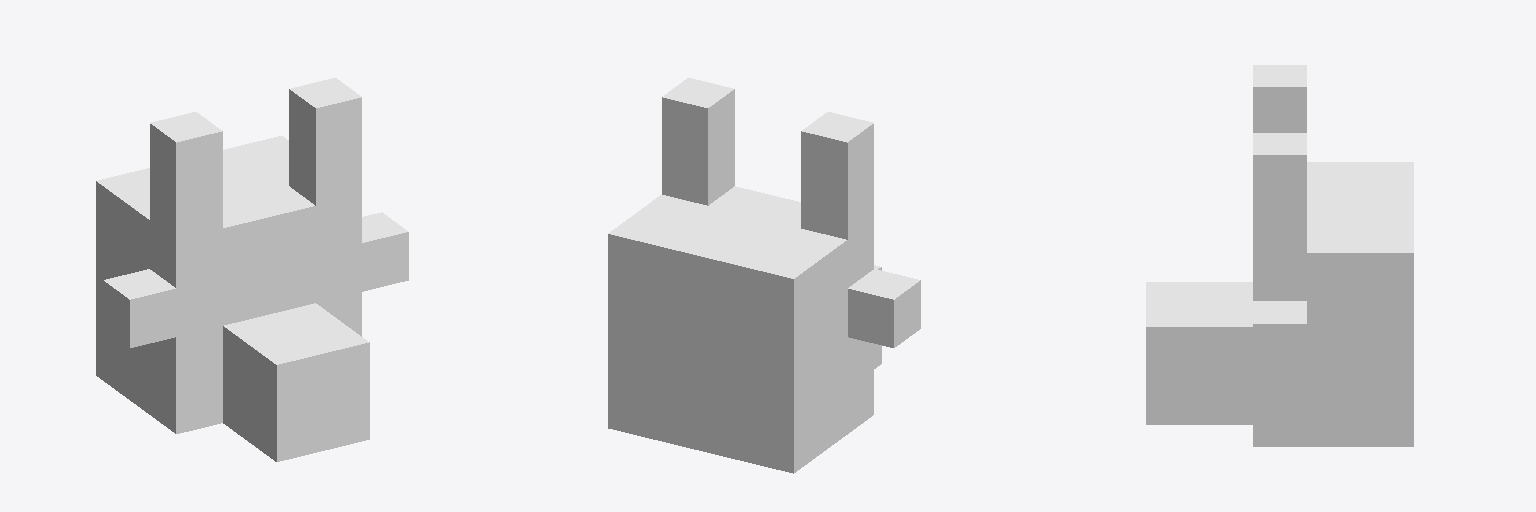
File: Serena-0.obj
3 views of the same model, side by side, from view 1: azimuth 30°, elevation 25°; view 2: azimuth 150°, elevation 25°; view 3: azimuth 270°, elevation 25° (orthographic).
Visible parts, largest first — view 1: object 1; view 2: object 1; view 3: object 1.
Part boxes in pixels (bbox=[...]): object 1: bbox=[96, 78, 408, 461]; object 1: bbox=[608, 78, 920, 473]; object 1: bbox=[1146, 65, 1413, 446].
Bounding box in the file's own units: 0.6 × 0.6 × 0.5.